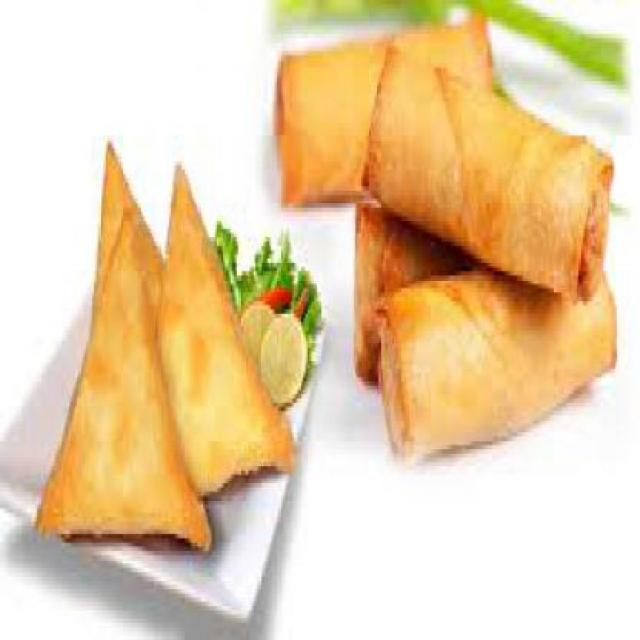samosa: (34, 122, 300, 564)
spring rolls: (270, 12, 622, 454)
